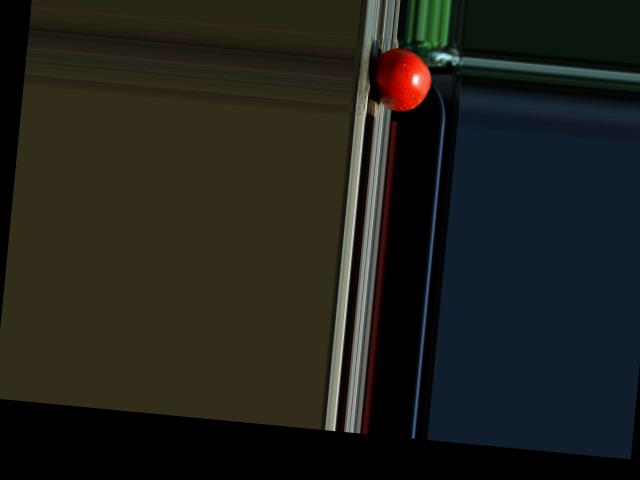tomato: (371, 45, 434, 113)
